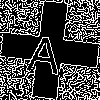A: (25, 25, 65, 75)
